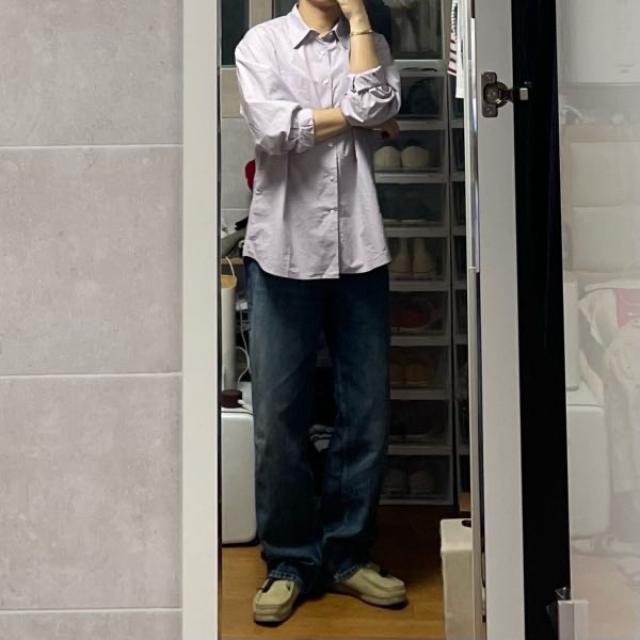denimpants: (253, 253, 397, 586)
shirt: (234, 4, 401, 282)
